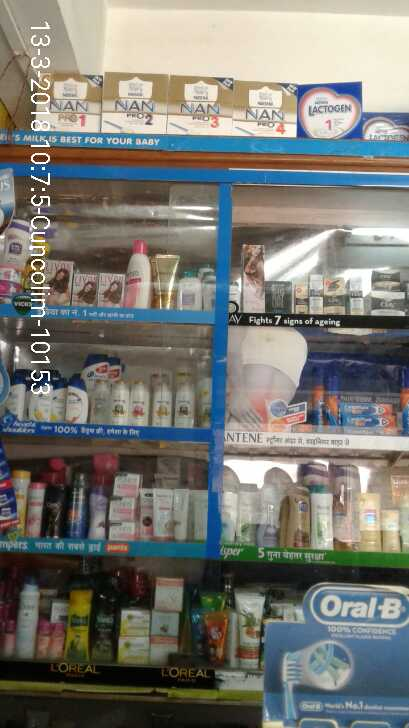beauty: (66, 376, 90, 425), (127, 379, 151, 426), (28, 381, 53, 423), (151, 384, 173, 429), (174, 381, 195, 428), (112, 377, 129, 425)
